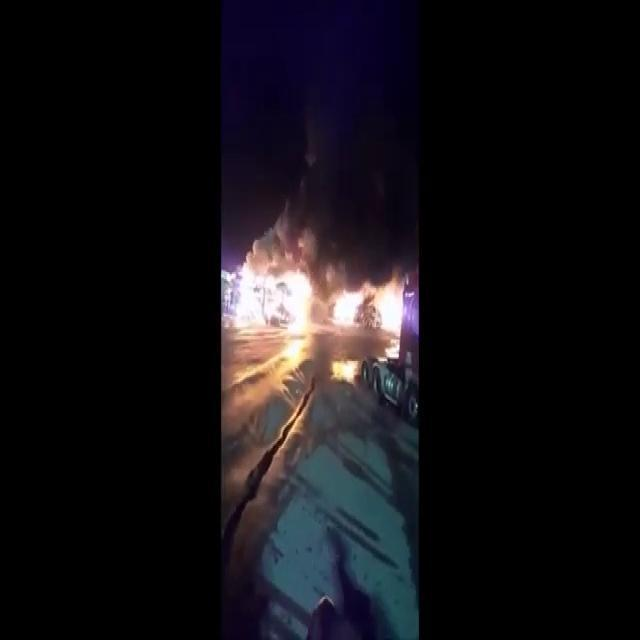Fire: (237, 268, 311, 328), (337, 280, 404, 332)
Smoke: (244, 149, 382, 274)
